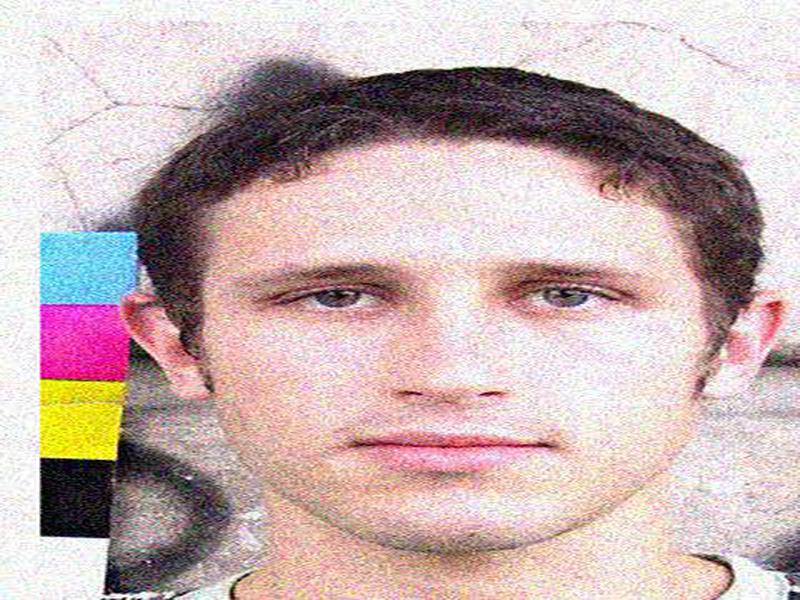without_mask: (185, 180, 699, 553)
